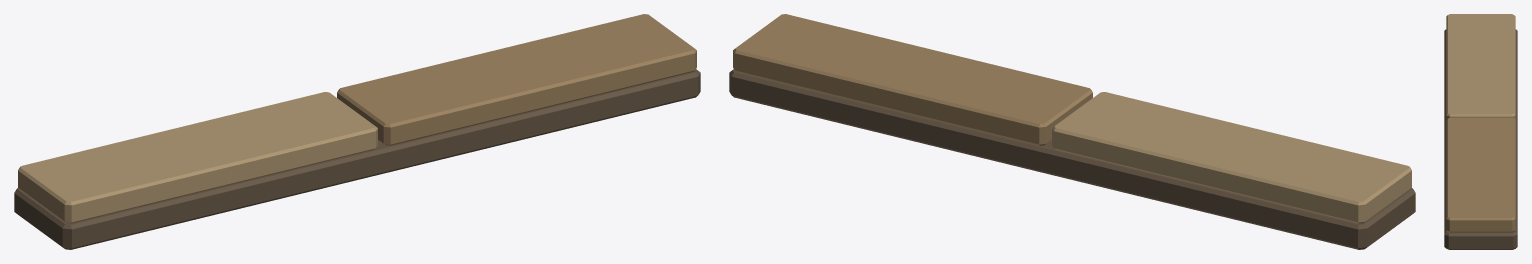
The model's file is floor-border.glb.
The picture shows the model from 3 angles, left to right: view 1: azimuth 30°, elevation 25°; view 2: azimuth 150°, elevation 25°; view 3: azimuth 270°, elevation 25°; orthographic projection. The views are drawn at different scales.
Visible parts, largest first — view 1: floor-border__body; view 2: floor-border__body; view 3: floor-border__body.
Part boxes in pixels (x1,y1,x2,y2): floor-border__body: [14, 14, 700, 249]; floor-border__body: [729, 14, 1415, 249]; floor-border__body: [1444, 14, 1517, 249].
Bounding box in the file's own units: 2 × 0.14 × 0.3.
